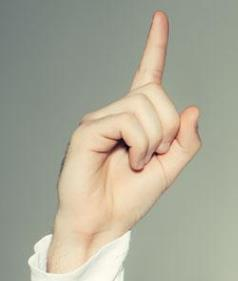up: (53, 8, 207, 230)
